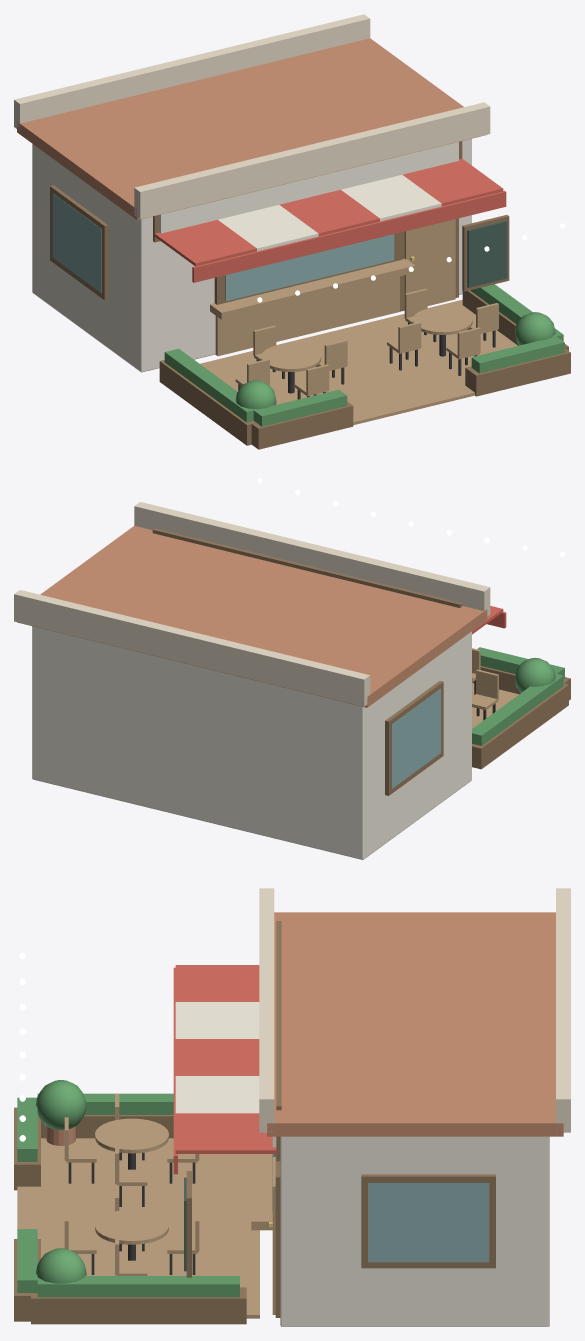
The model's file is CafeKiosk.fbx.
3 renders of one model, top to bottom at view 1: azimuth 30°, elevation 25°; view 2: azimuth 150°, elevation 25°; view 3: azimuth 270°, elevation 25°, orthographic. The views are drawn at different scales.
Visible parts, largest first — view 1: CafeKiosk; view 2: CafeKiosk; view 3: CafeKiosk.
Boxes of the visible parts, x1,y1,x2,y2 form: CafeKiosk: (14,14,570,449); CafeKiosk: (14,478,570,859); CafeKiosk: (14,888,570,1326).
Size of the model in its own units: 7.4 by 3.83 by 8.26.
